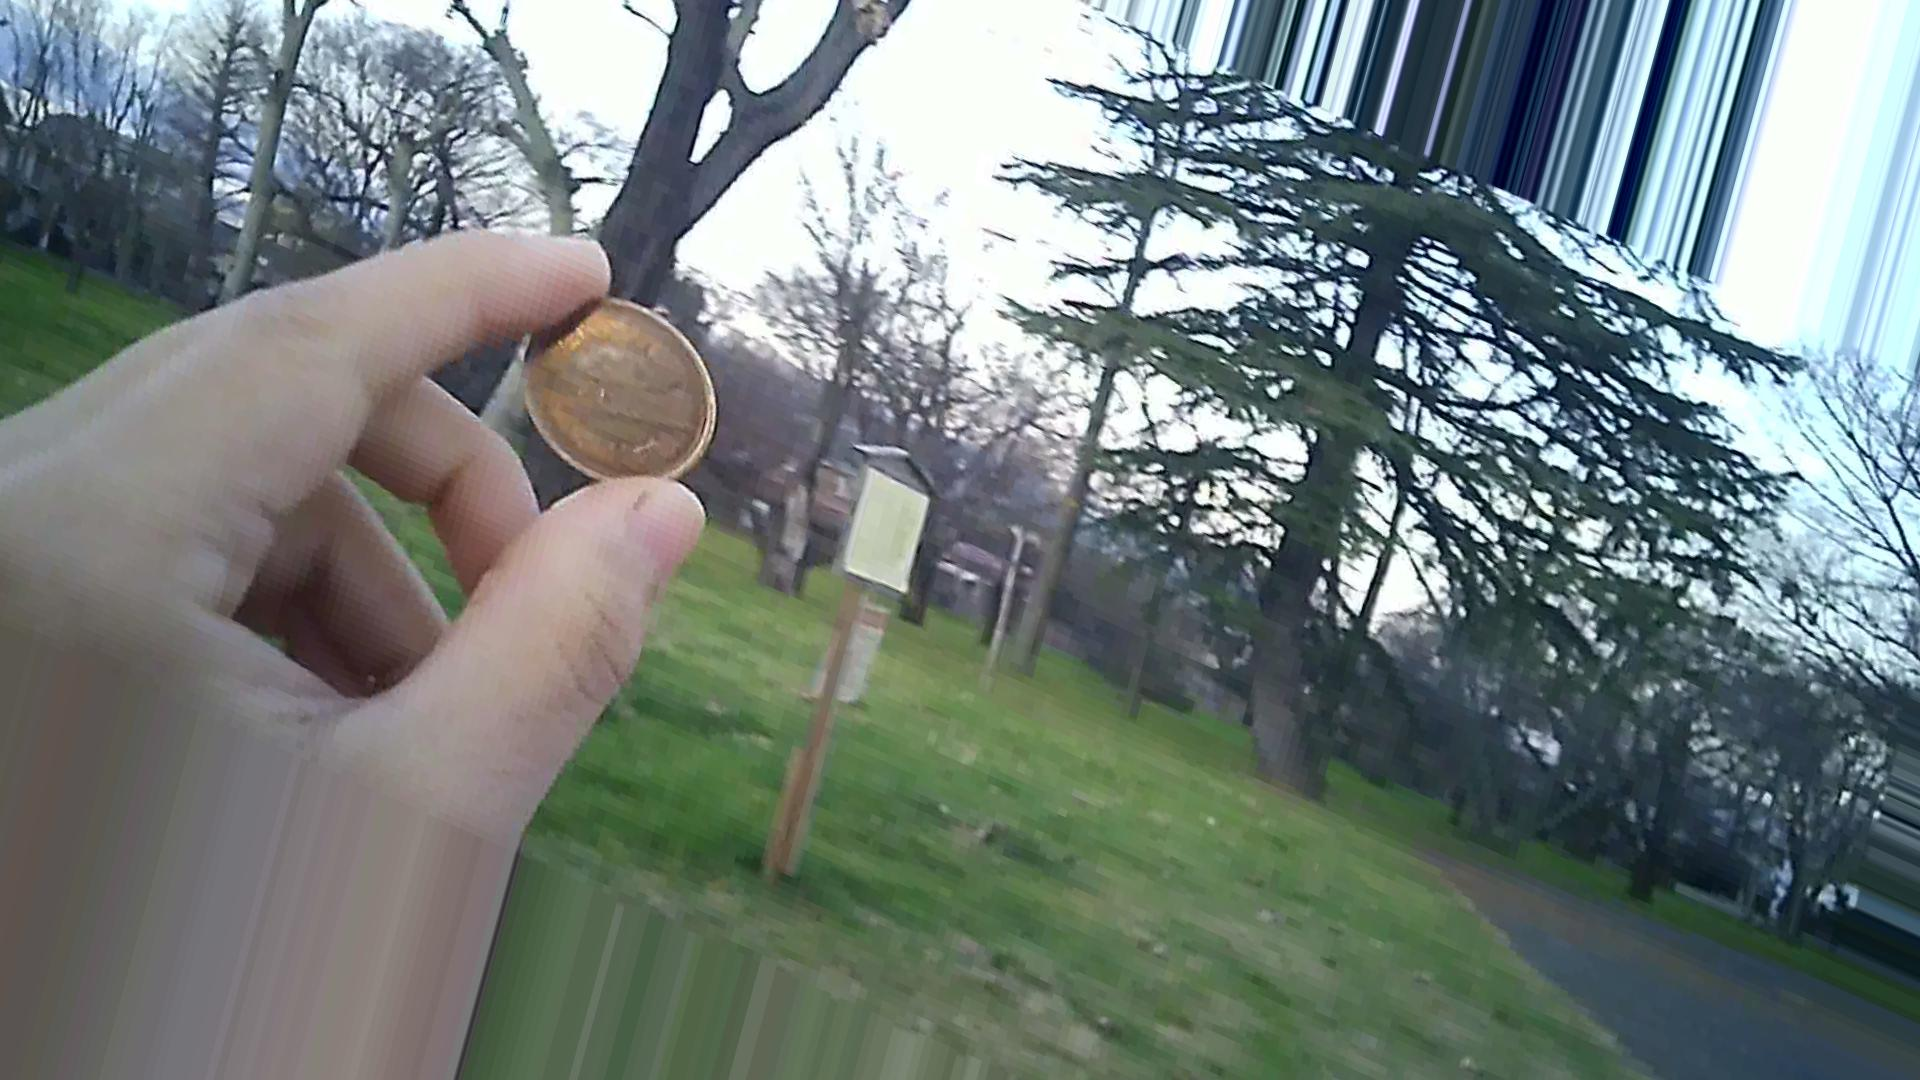10 Yen: (514, 284, 713, 491)
